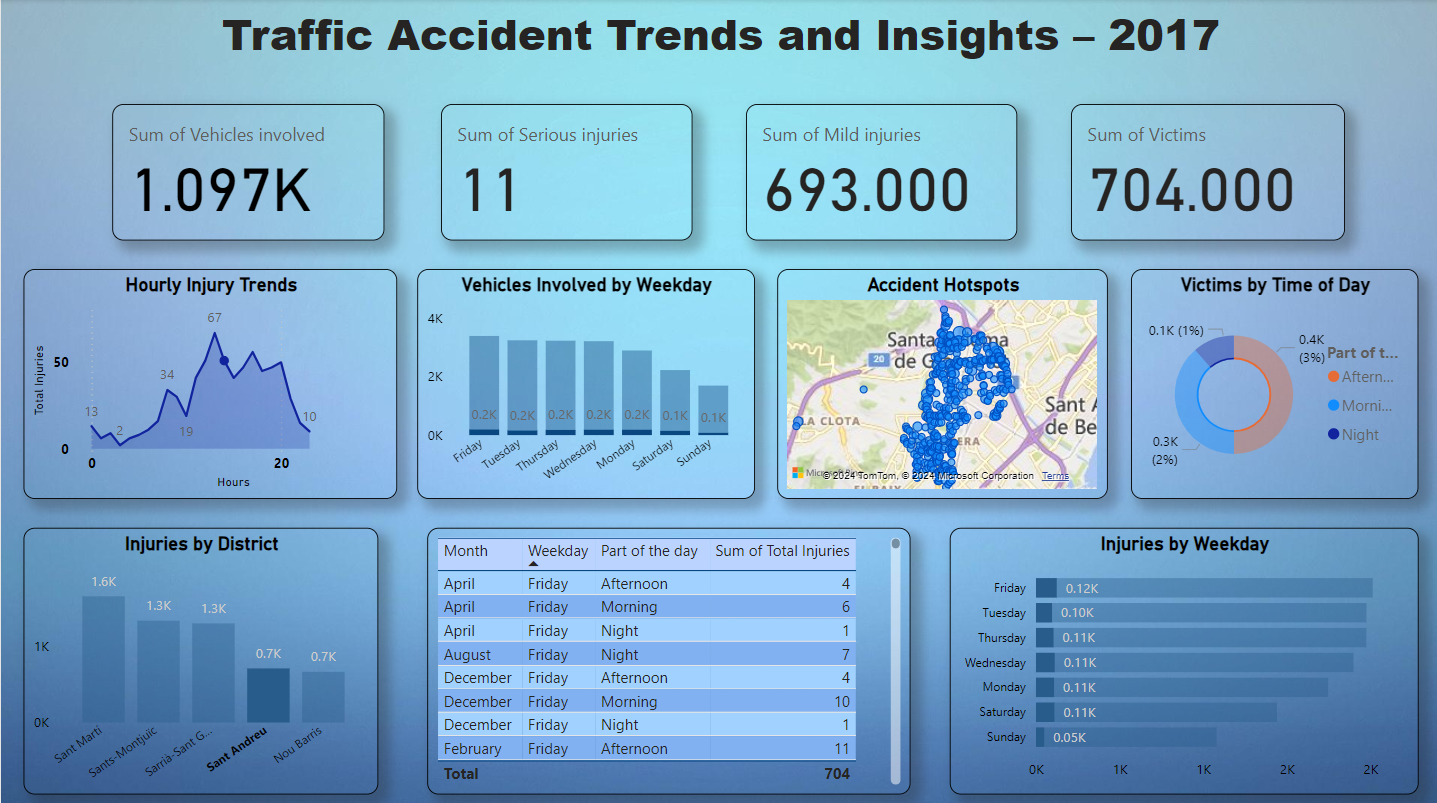

The dashboard page shown, as its layout file describes it:
{"tool":"powerbi","page":{"name":"Page 1","canvas":[1280,720],"ordinal":0},"visuals":[{"type":"cardVisual","fields":{"Data":["Sum(accidents_2017.Victims)"]},"box":[950.7,94.1,243.7,121.9],"z":0},{"type":"cardVisual","fields":{"Data":["Sum(accidents_2017.Serious injuries)"]},"box":[361.9,94.1,223.2,121.9],"z":1000},{"type":"clusteredColumnChart","title":"Injuries by District","fields":{"Category":["accidents_2017.District Name"],"Y":["Sum(accidents_2017.Total Injuries)"]},"box":[20.5,470.5,316.1,237.7],"z":2000},{"type":"clusteredBarChart","title":"Injuries by Weekday","fields":{"Category":["accidents_2017.Weekday"],"Y":["Sum(accidents_2017.Total Injuries)"]},"box":[844.5,470.5,417.4,237.7],"z":3000},{"type":"cardVisual","fields":{"Data":["Sum(accidents_2017.Vehicles involved)"]},"box":[65.1,94.1,243.7,121.9],"z":4000},{"type":"cardVisual","fields":{"Data":["Sum(accidents_2017.Mild injuries)"]},"box":[640.6,94.1,241.3,121.9],"z":5000},{"type":"tableEx","fields":{"Values":["accidents_2017.Month","accidents_2017.Weekday","accidents_2017.Part of the day","Sum(accidents_2017.Total Injuries)"]},"box":[380,470.5,430.7,237.7],"z":6000},{"type":"lineChart","title":"Hourly Injury Trends","fields":{"Category":["accidents_2017.Hour"],"Y":["Sum(accidents_2017.Total Injuries)"]},"box":[20.5,240.1,333,205.1],"z":7000},{"type":"map","title":"Accident Hotspots","fields":{"X":["accidents_2017.Longitude"],"Y":["accidents_2017.Latitude"],"Size":["Count(accidents_2017.Total Injuries)"]},"box":[691.3,240.1,294.4,205.1],"z":8000},{"type":"clusteredColumnChart","title":"Vehicles Involved by Weekday","fields":{"Category":["accidents_2017.Weekday"],"Y":["Sum(accidents_2017.Vehicles involved)"]},"box":[370.4,240.1,300.4,205.1],"z":9000},{"type":"donutChart","title":"Victims by Time of Day","fields":{"Category":["accidents_2017.Part of the day"],"Y":["Sum(accidents_2017.Victims)"]},"box":[1006.2,240.1,255.8,205.1],"z":10000},{"type":"textbox","box":[0,0,1280,66.4],"z":11000}]}

Visuals, with their boxes in screenshot pixels (x1, y1, x2, y2), scaled from the page's 1280x720 canvas onto the 1437x803 screenshot:
cardVisual - Sum(accidents_2017.Victims): 1067 105 1341 241
cardVisual - Sum(accidents_2017.Serious injuries): 406 105 657 241
"Injuries by District" clusteredColumnChart: 23 525 378 790
"Injuries by Weekday" clusteredBarChart: 948 525 1417 790
cardVisual - Sum(accidents_2017.Vehicles involved): 73 105 347 241
cardVisual - Sum(accidents_2017.Mild injuries): 719 105 990 241
tableEx - accidents_2017.Month x accidents_2017.Weekday: 427 525 910 790
"Hourly Injury Trends" lineChart: 23 268 397 497
"Accident Hotspots" map: 776 268 1107 497
"Vehicles Involved by Weekday" clusteredColumnChart: 416 268 753 497
"Victims by Time of Day" donutChart: 1130 268 1417 497
textbox: 0 0 1436 74
